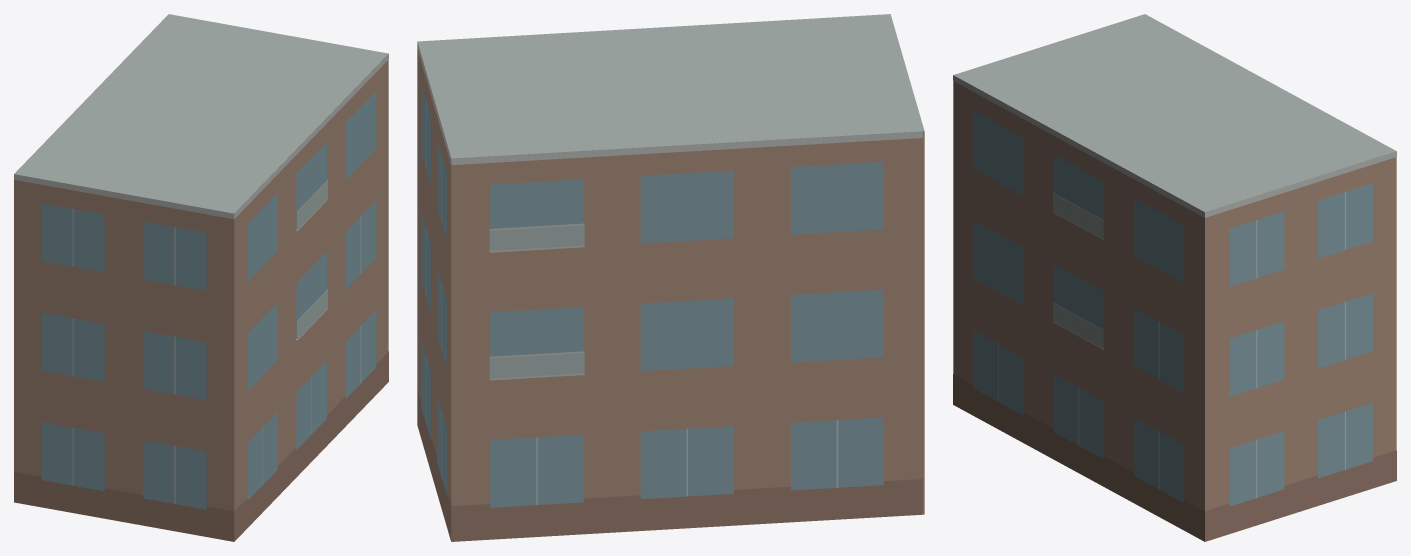
File: survey-upis-32671384.glb
3 views of the same model, side by side, from view 1: azimuth 30°, elevation 25°; view 2: azimuth 150°, elevation 25°; view 3: azimuth 270°, elevation 25° (orthographic). The views are drawn at different scales.
Visible parts, largest first — view 1: survey-upis-32671384.tmp; view 2: survey-upis-32671384.tmp; view 3: survey-upis-32671384.tmp.
Part boxes in pixels (bbox=[...]): survey-upis-32671384.tmp: bbox=[14, 14, 388, 541]; survey-upis-32671384.tmp: bbox=[417, 14, 924, 541]; survey-upis-32671384.tmp: bbox=[953, 14, 1396, 541].
Bounding box in the file's own units: 18.18 × 14.09 × 17.19.
